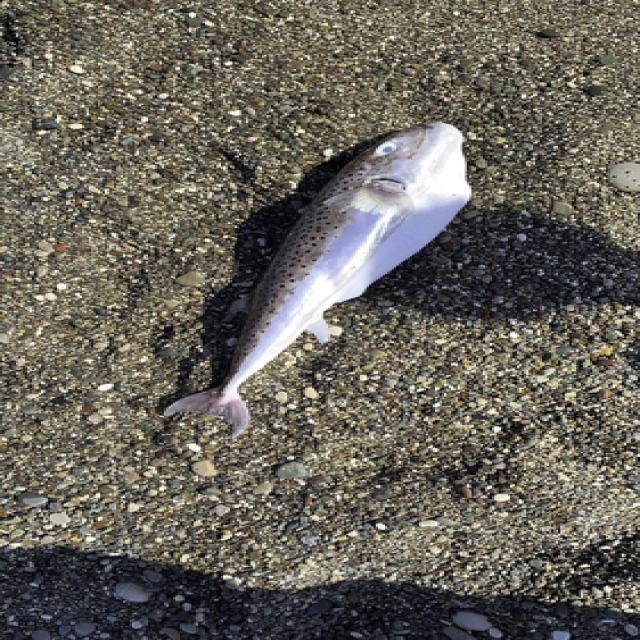Balik: (164, 123, 471, 436)
